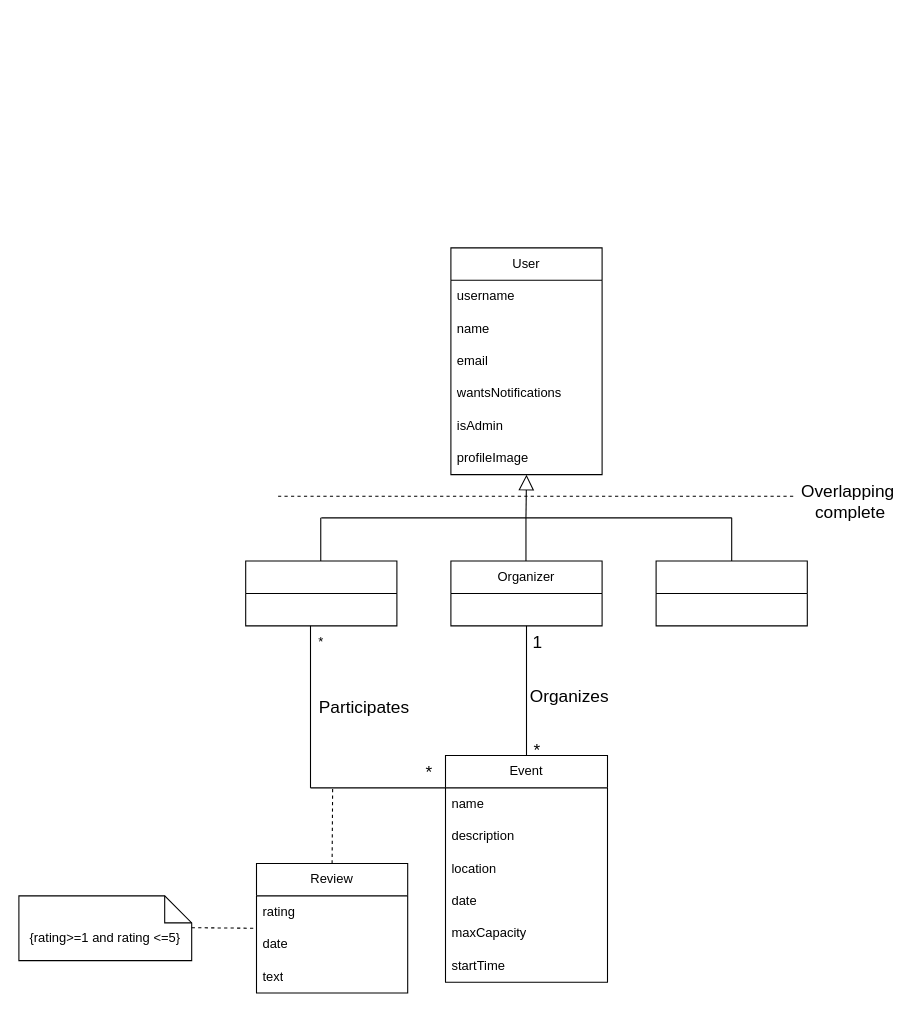
The diagram is 918 pixels wide and 1012 high, and some of its shapes have lost their labels. Here are the shapes that lost their labels. From the top down, the centre of each, then its label:
point 321,593: Participant
point 731,593: Admin
